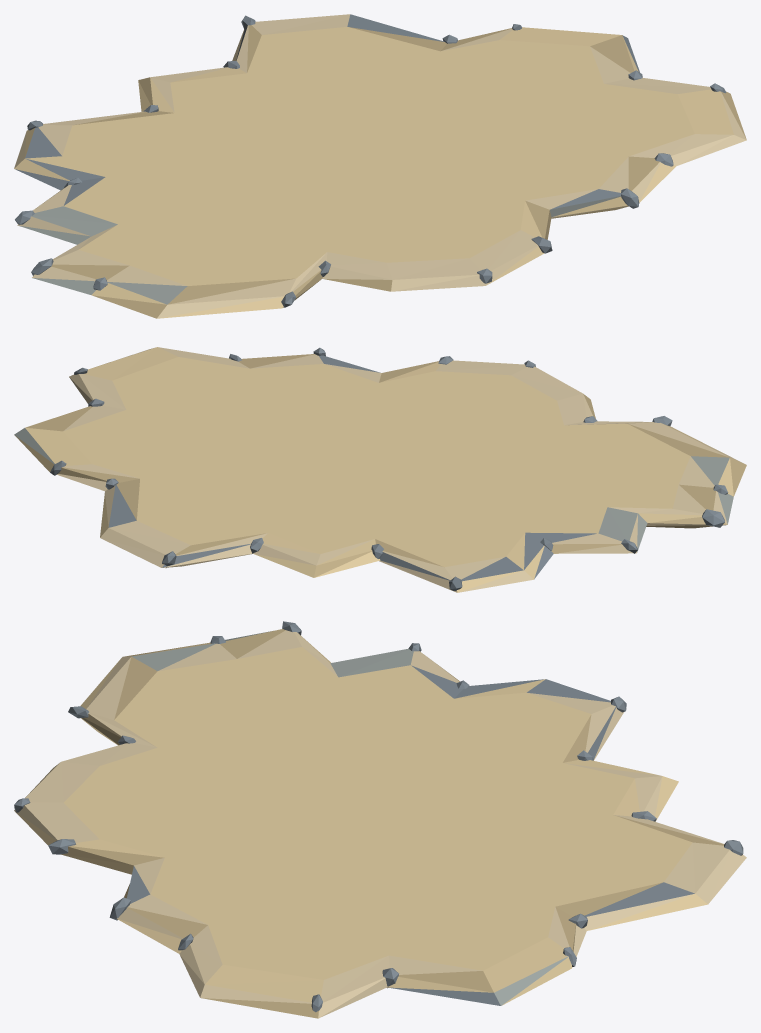
File: env_island_terrain.glb
3 views of the same model, one above another, from view 1: azimuth 30°, elevation 25°; view 2: azimuth 150°, elevation 25°; view 3: azimuth 270°, elevation 25° (orthographic). The views are drawn at different scales.
Parts seen in each view (by area): view 1: env_island_terrain__Island_surface.002, env_island_terrain__Faceted_coastal_cliffs.003, env_island_terrain; view 2: env_island_terrain__Island_surface.002, env_island_terrain__Faceted_coastal_cliffs.003, env_island_terrain; view 3: env_island_terrain__Island_surface.002, env_island_terrain__Faceted_coastal_cliffs.003, env_island_terrain.
Boxes of the visible parts, bbox=[...] form: env_island_terrain__Island_surface.002: bbox=[62, 27, 694, 285]; env_island_terrain__Faceted_coastal_cliffs.003: bbox=[14, 14, 746, 318]; env_island_terrain: bbox=[15, 15, 726, 307]; env_island_terrain__Island_surface.002: bbox=[63, 357, 690, 567]; env_island_terrain__Faceted_coastal_cliffs.003: bbox=[14, 347, 746, 592]; env_island_terrain: bbox=[50, 347, 727, 590]; env_island_terrain__Island_surface.002: bbox=[63, 647, 692, 979]; env_island_terrain__Faceted_coastal_cliffs.003: bbox=[14, 629, 746, 1018]; env_island_terrain: bbox=[14, 621, 743, 1012].
Size of the model in its own units: 114 by 3.49 by 90.2.
